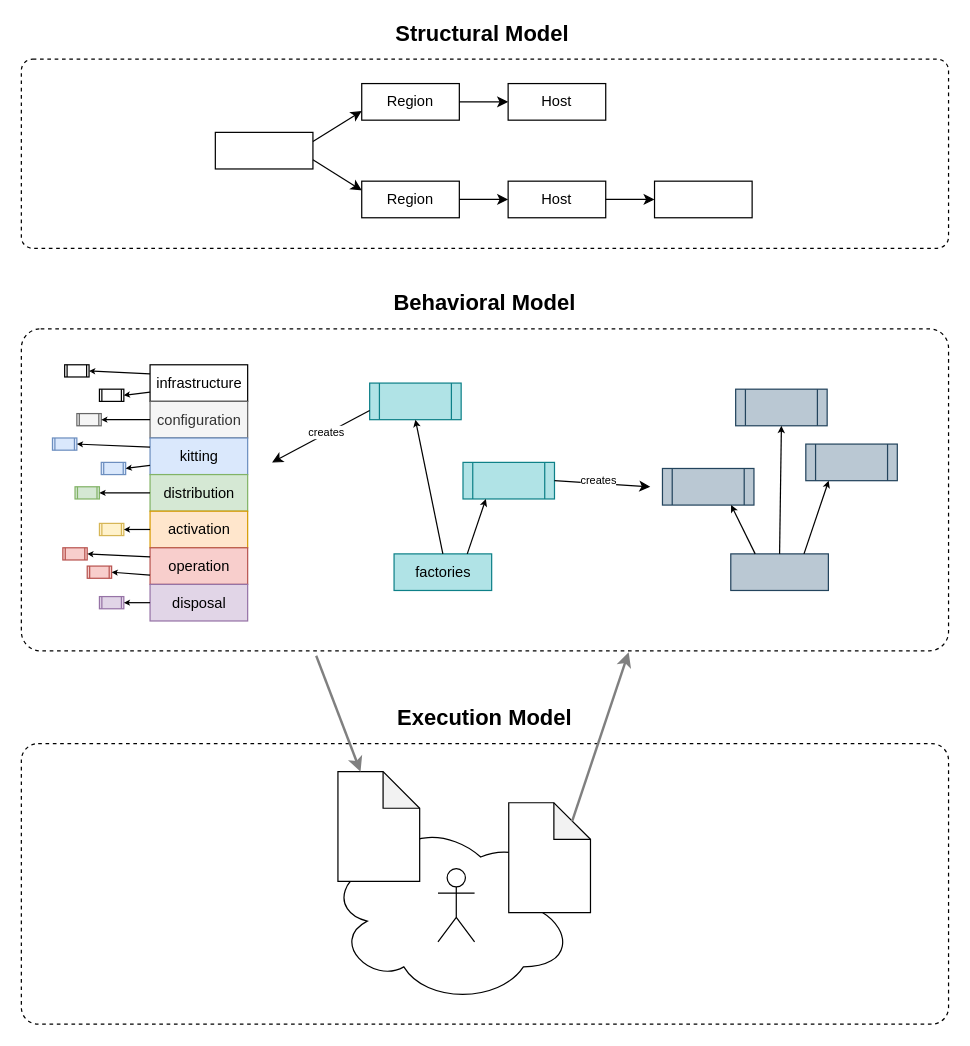
This 970x1046 diagram has some shape labels left out. Here are the shapes that lost their labels. From the top down, the centre of each, then its label:
the point at 263,150: Model
the point at 702,199: Component
the point at 779,571: actions
the point at 378,825: Data
the point at 549,857: Variables
the point at 456,904: User/Host
